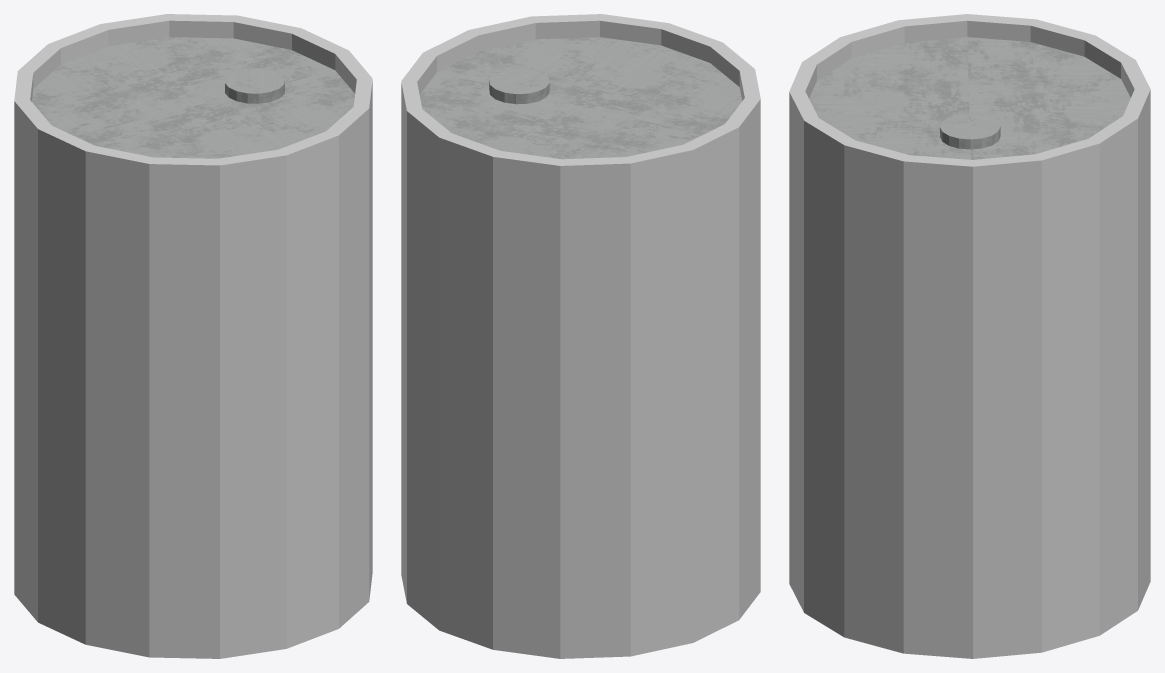
The model's file is bochka.fbx.
The picture shows the model from 3 angles, left to right: view 1: azimuth 30°, elevation 25°; view 2: azimuth 150°, elevation 25°; view 3: azimuth 270°, elevation 25°; orthographic projection.
Visible parts, largest first — view 1: Circle.045; view 2: Circle.045; view 3: Circle.045.
Part boxes in pixels (<box>): Circle.045: <box>14,14,372,658</box>; Circle.045: <box>401,14,760,658</box>; Circle.045: <box>789,14,1150,658</box>.
Bounding box in the file's own units: 1.06 × 1.6 × 1.06.
